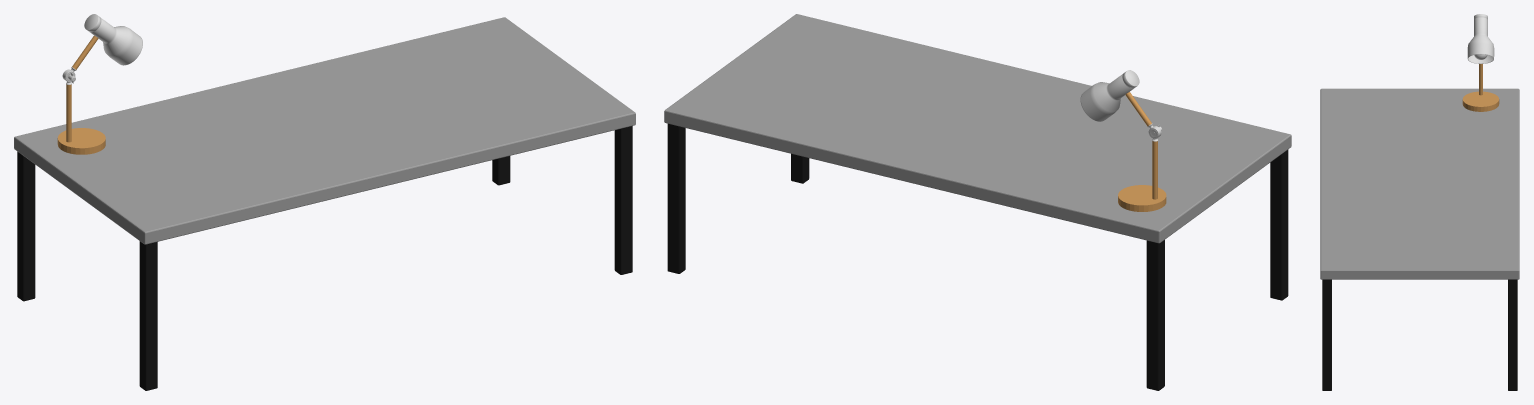
File: Bureau.glb
3 views of the same model, side by side, from view 1: azimuth 30°, elevation 25°; view 2: azimuth 150°, elevation 25°; view 3: azimuth 270°, elevation 25° (orthographic). The views are drawn at different scales.
Visible parts, largest first — view 1: Table, Cylinder, Cylinder.002; view 2: Table, Cylinder.002, Cylinder; view 3: Table, Cylinder.002, Cylinder.
Part boxes in pixels (x1,y1,x2,y2): Table: (14,17,635,390); Cylinder: (57,35,105,154); Cylinder.002: (84,14,142,65); Table: (664,14,1291,390); Cylinder.002: (1080,70,1139,121); Cylinder: (1118,92,1166,211); Table: (1320,88,1519,390); Cylinder.002: (1467,14,1494,63); Cylinder: (1462,64,1499,111).
Bounding box in the file's own units: 8 × 4.46 × 3.7.
